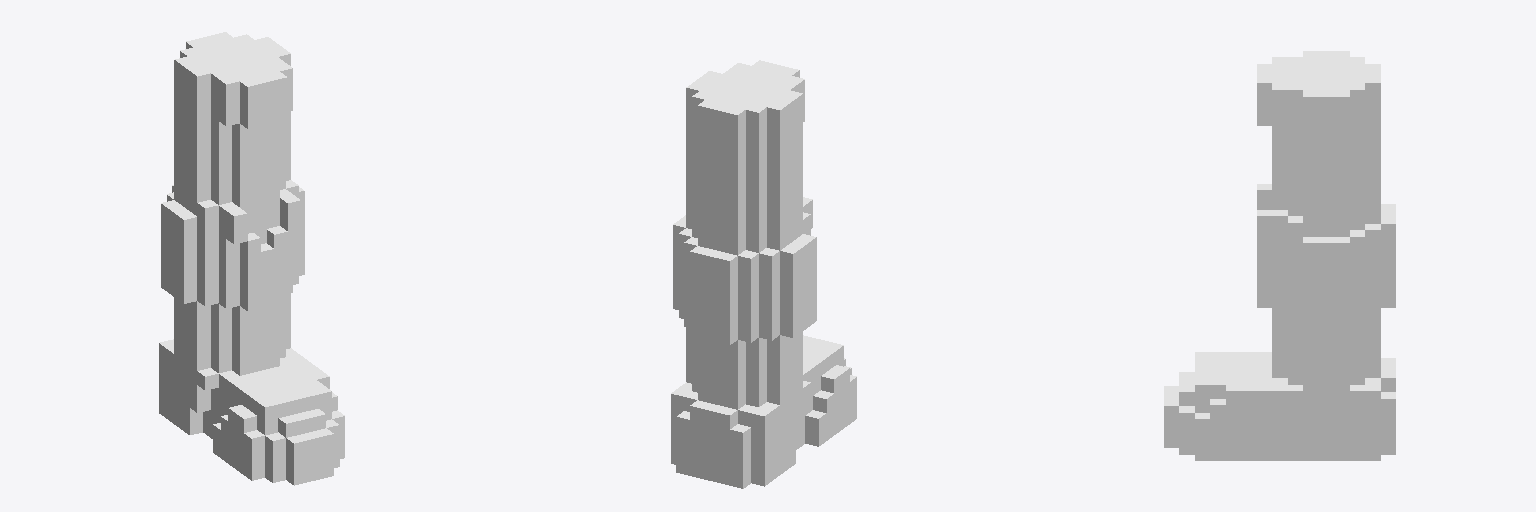
File: Hero-10.obj
3 views of the same model, side by side, from view 1: azimuth 30°, elevation 25°; view 2: azimuth 150°, elevation 25°; view 3: azimuth 270°, elevation 25° (orthographic).
Parts seen in each view (by area): view 1: object 1; view 2: object 1; view 3: object 1.
Part boxes in pixels (bbox=[...]): object 1: bbox=[159, 32, 344, 485]; object 1: bbox=[671, 60, 856, 488]; object 1: bbox=[1164, 51, 1395, 460].
Size of the model in its own units: 0.9 by 2.6 by 1.5.